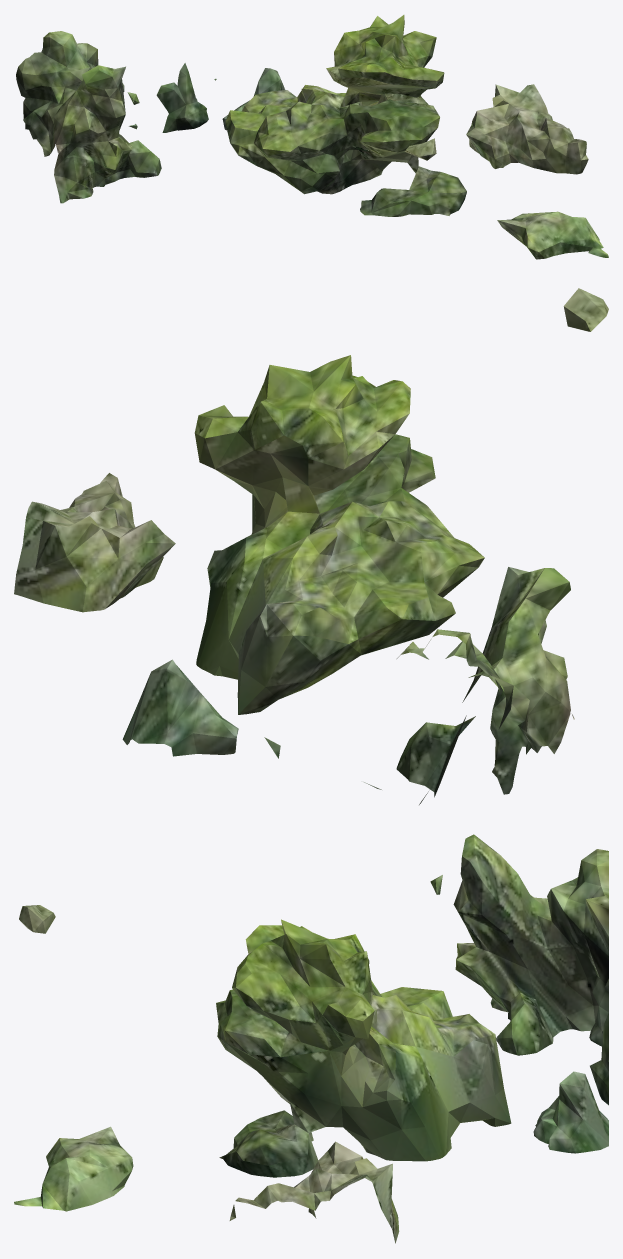
3 views of the same model, one above another, from view 1: azimuth 30°, elevation 25°; view 2: azimuth 150°, elevation 25°; view 3: azimuth 270°, elevation 25° (orthographic). The views are drawn at different scales.
Bounding box in the file's own units: 26.11 × 10.23 × 25.68.
Materials: 2 (2 with a texture image).
